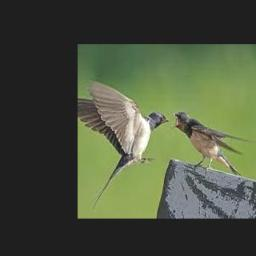Swallow: (78, 80, 169, 210), (172, 111, 254, 176)
